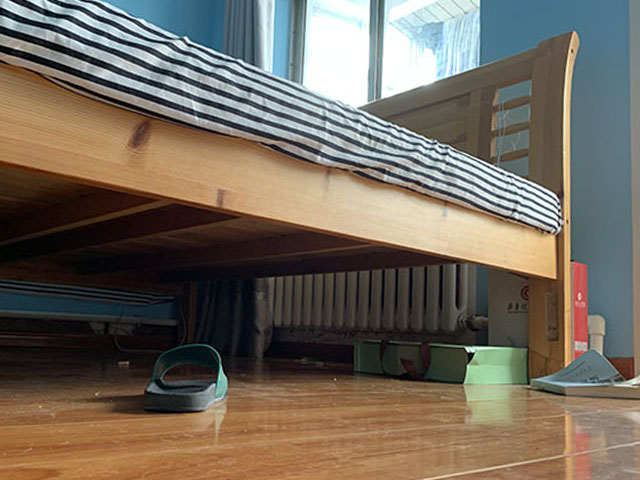bed: (1, 1, 580, 387)
book: (529, 349, 640, 401)
slippers: (142, 342, 229, 414)
